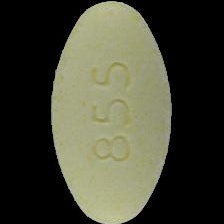0228-2855: (0, 0, 224, 224)
